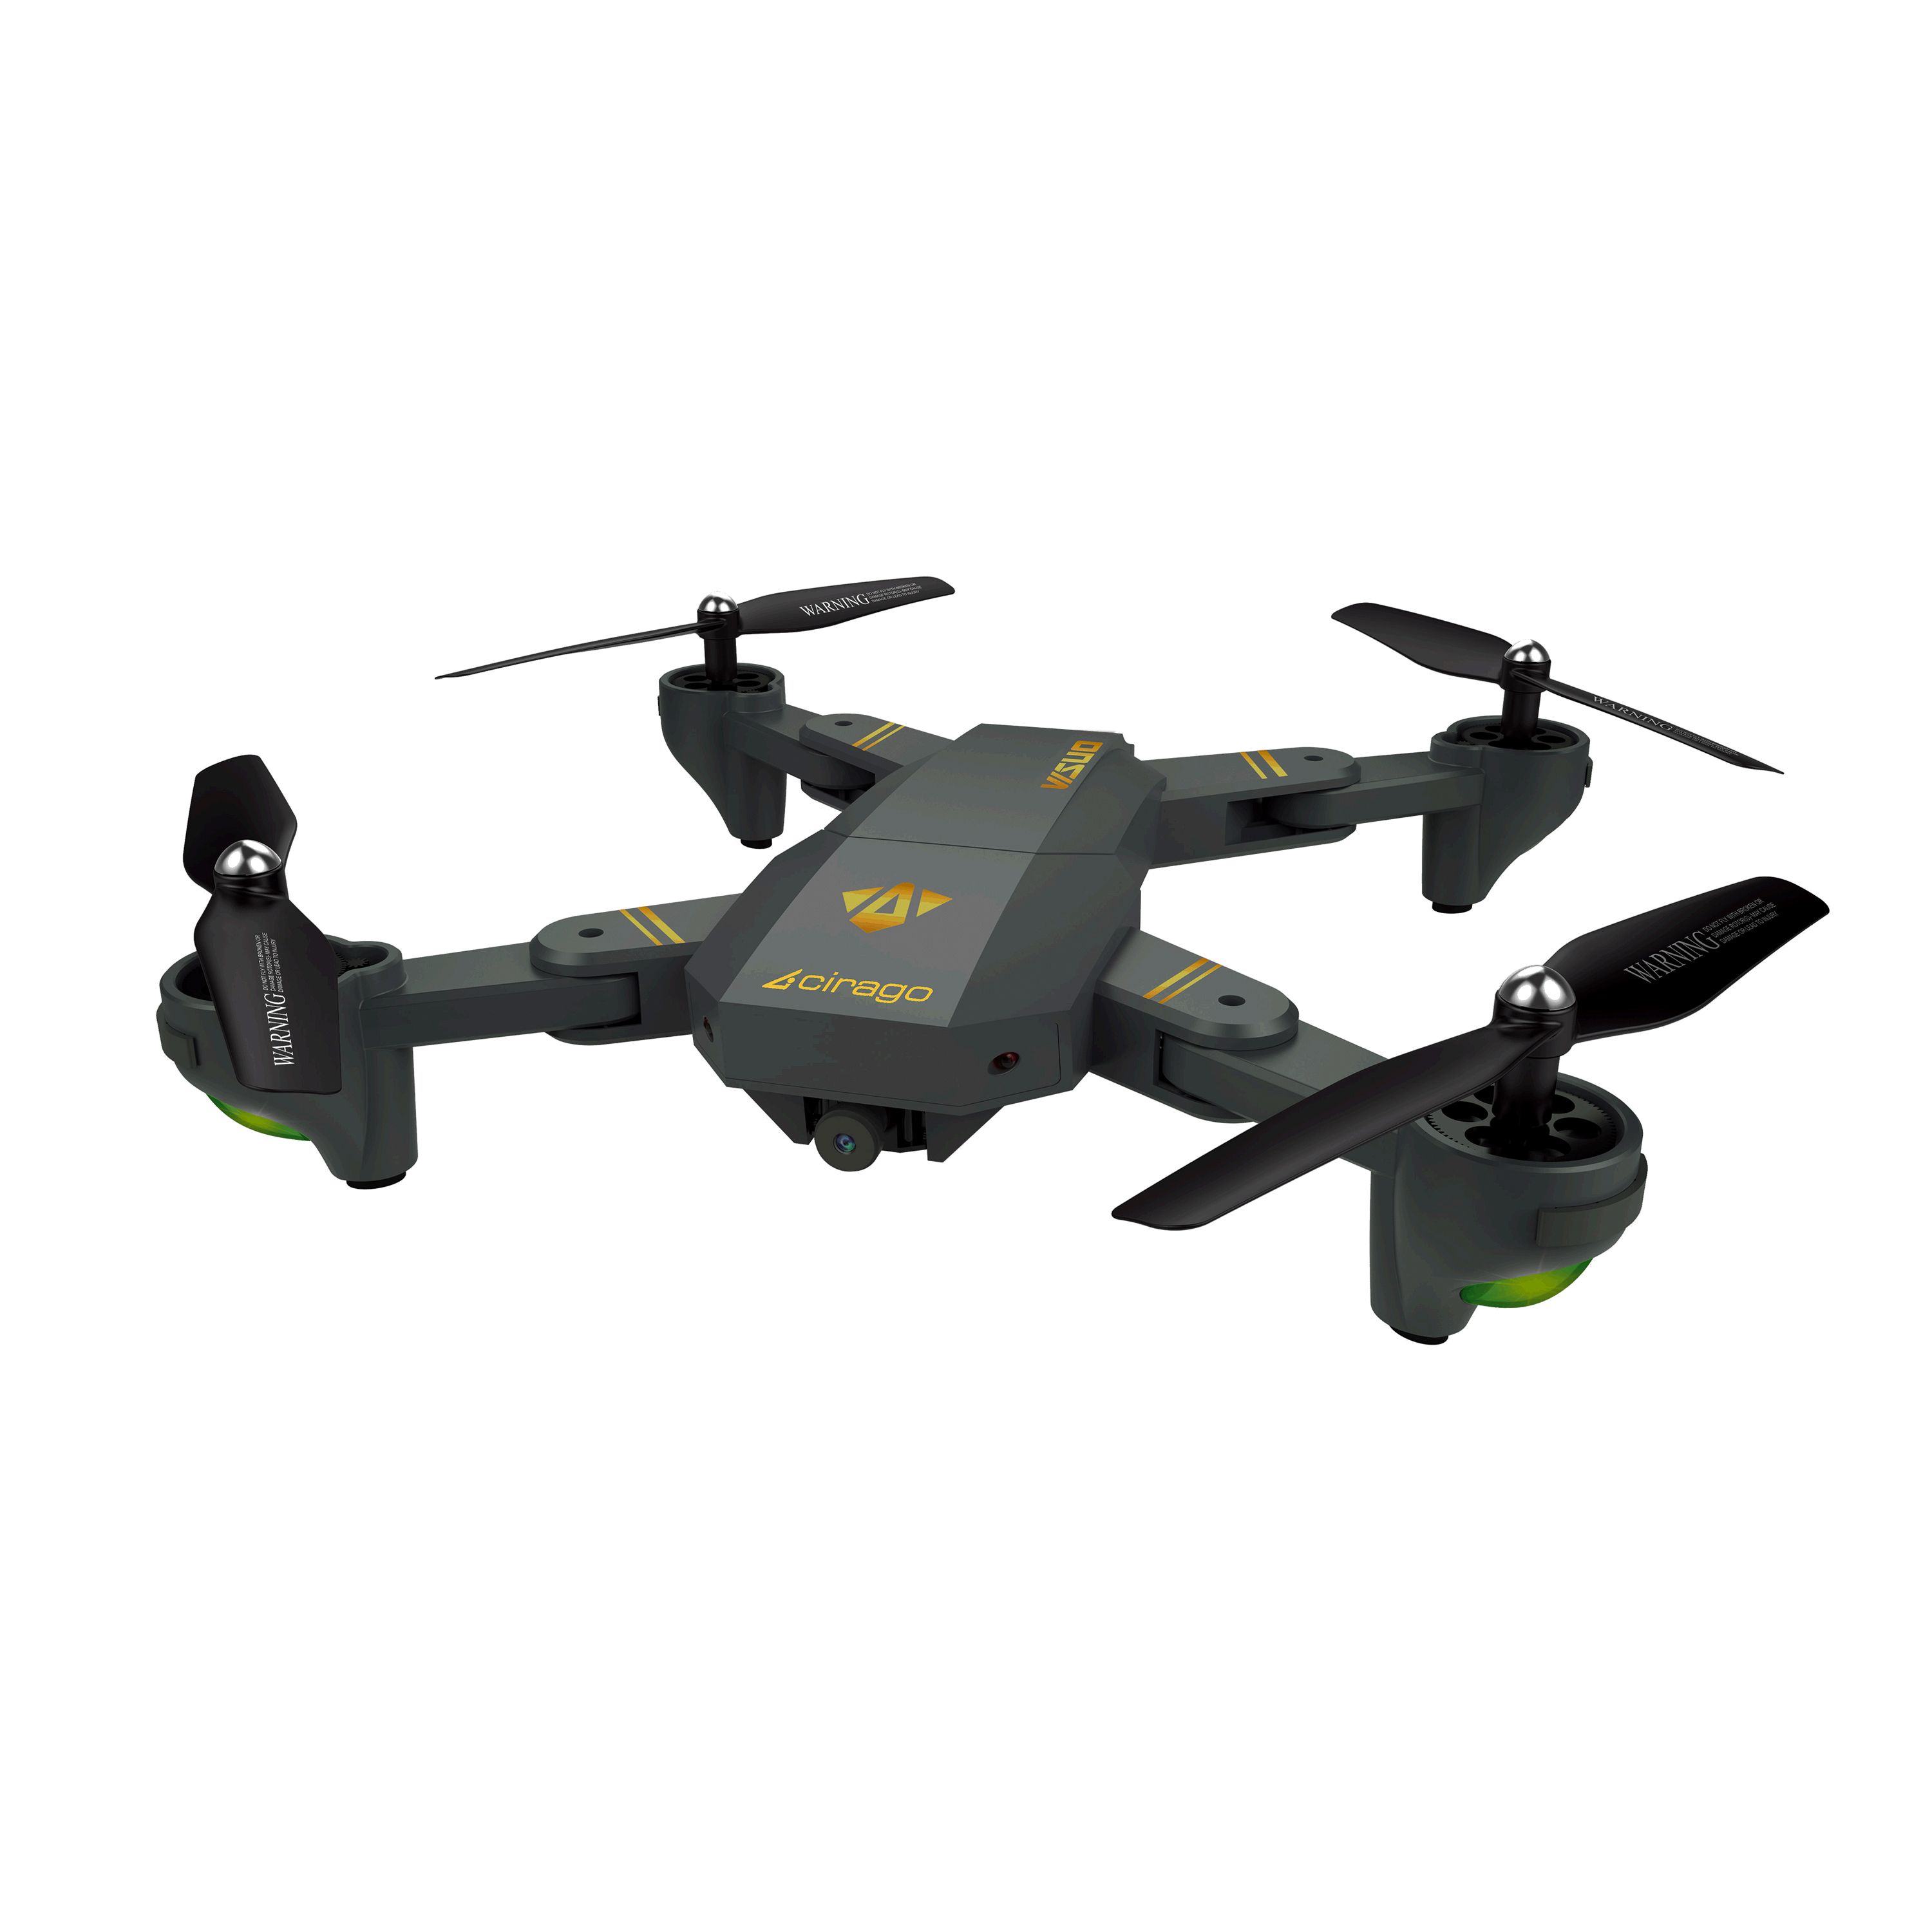drone: (126, 561, 1854, 1369)
